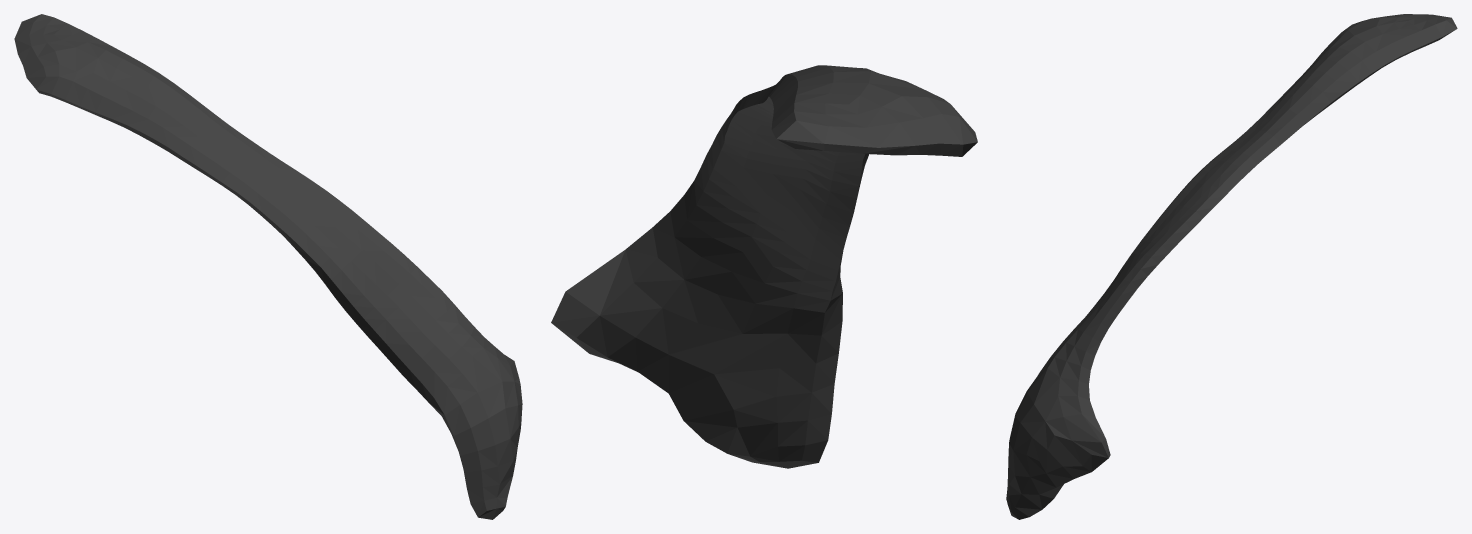
The model's file is lev_anguli_ocul_med.glb.
3 renders of one model, left to right at view 1: azimuth 30°, elevation 25°; view 2: azimuth 150°, elevation 25°; view 3: azimuth 270°, elevation 25°, orthographic. The views are drawn at different scales.
Visible parts, largest first — view 1: lev_anguli_ocul_med; view 2: lev_anguli_ocul_med; view 3: lev_anguli_ocul_med.
Boxes of the visible parts, <box> form: lev_anguli_ocul_med: <box>14,14,522,519</box>; lev_anguli_ocul_med: <box>551,65,977,468</box>; lev_anguli_ocul_med: <box>1006,14,1457,519</box>.
Size of the model in its own units: 0.3084 by 0.3352 by 0.3541.
1 material, 1 textured.
